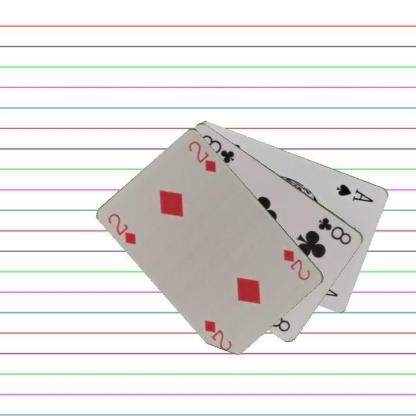2d: (280, 246, 312, 282), (106, 210, 138, 246)
8c: (315, 214, 353, 246)
As: (333, 181, 375, 203)
